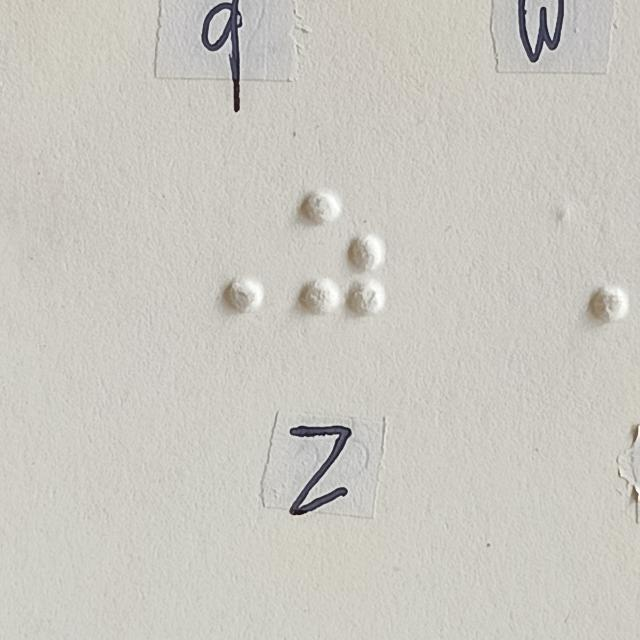capital_sign: (178, 191, 267, 319)
letter_Z: (299, 190, 388, 318)
